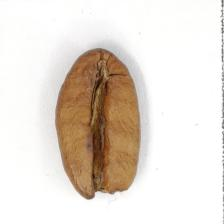NG: (82, 113, 130, 201)
